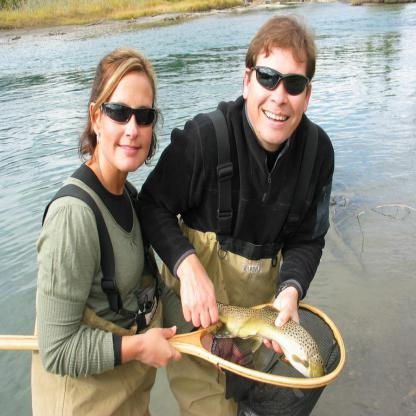face: (251, 52, 306, 144), (103, 82, 154, 172)
